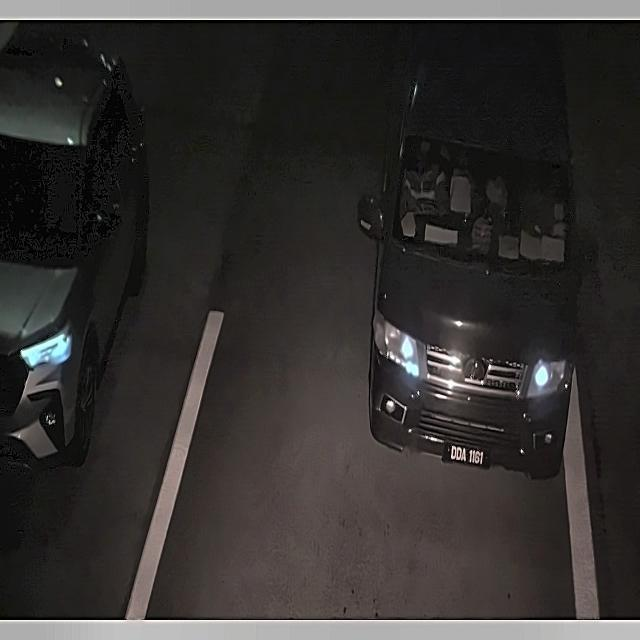car: (442, 437, 488, 472)
